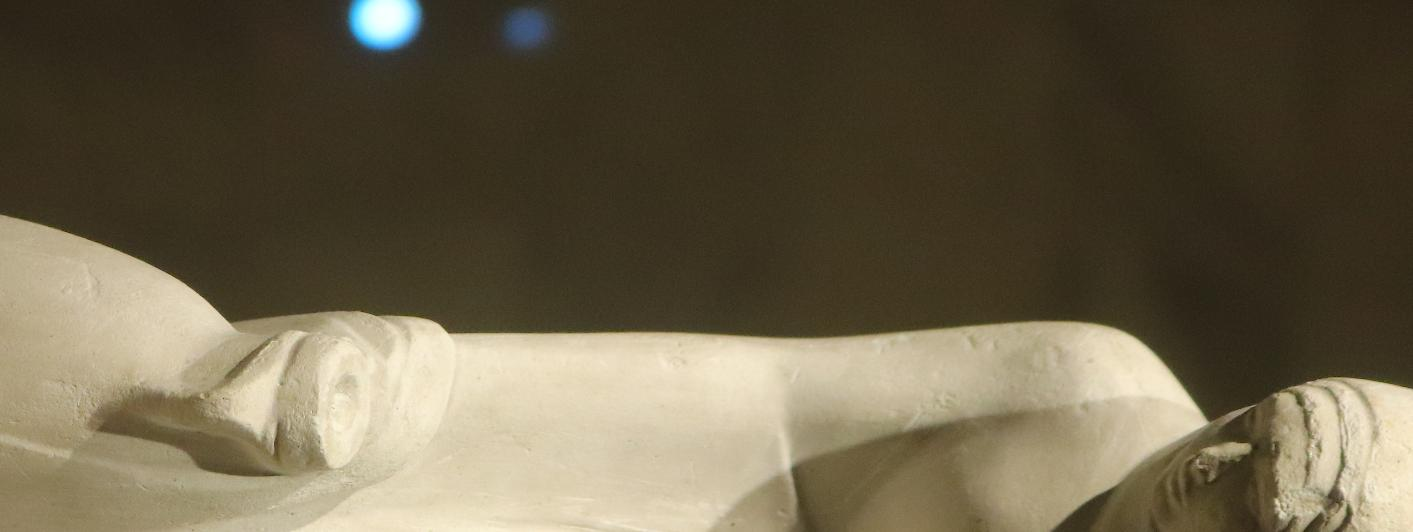the_female_peasent: (0, 0, 682, 532)
